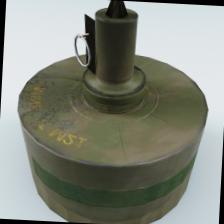M21: (5, 0, 213, 224)
